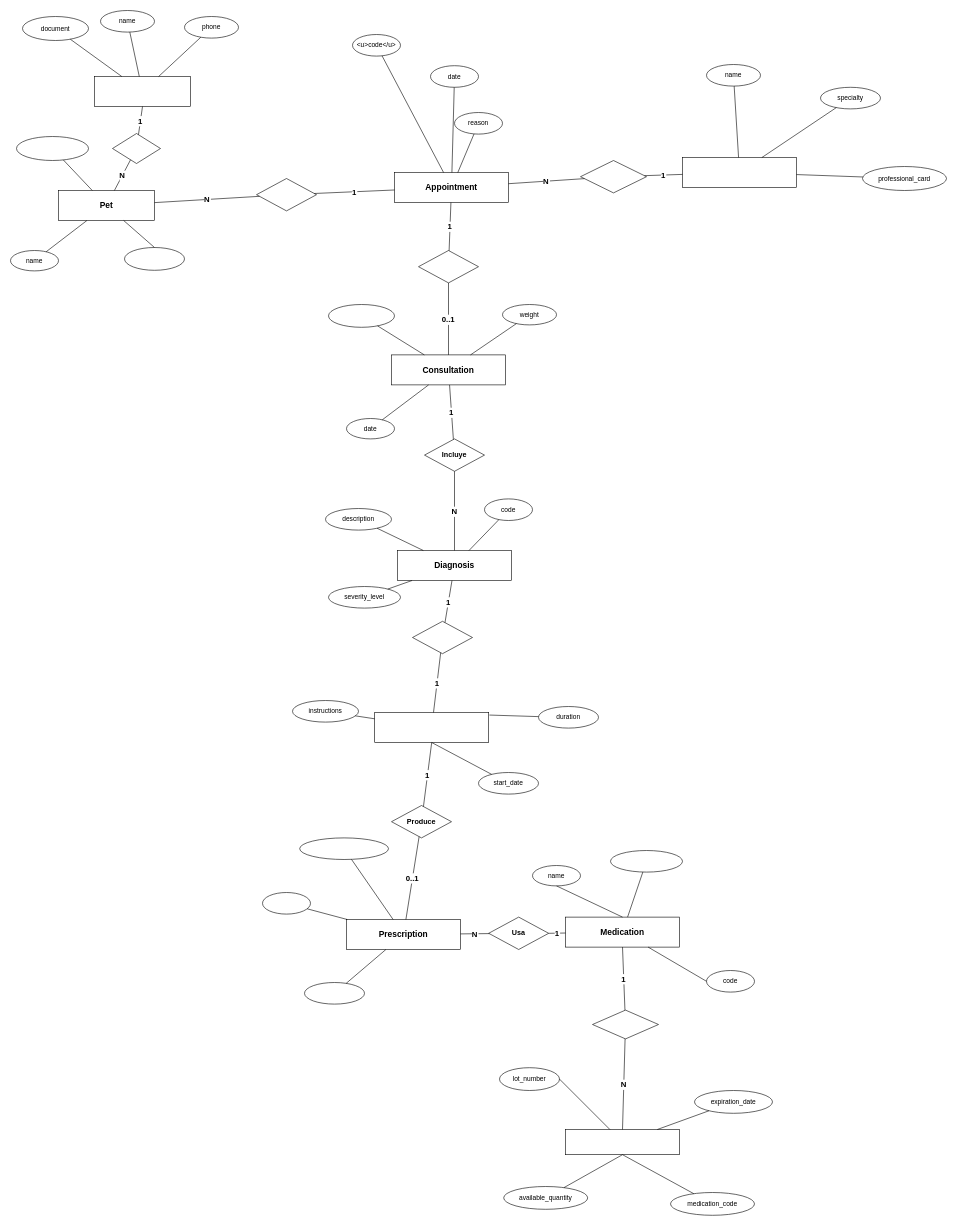
This 957x1226 diagram has some shape labels left out. The shapes that lost their labels are listed below. From the top down, each one's box as (x1, y1, x2, y2) in pixels, then its label:
(94, 76, 190, 106): Owner
(16, 136, 88, 160): clinical_code
(112, 133, 160, 164): Tiene
(580, 160, 646, 193): Asignado a
(682, 157, 796, 188): Veterinarian
(256, 178, 316, 211): Agenda
(124, 247, 184, 270): birth_date
(418, 250, 478, 283): Genera
(328, 304, 394, 327): sequential
(412, 621, 472, 654): Origina
(374, 712, 489, 742): Treatment
(299, 837, 388, 860): administration_route
(610, 850, 682, 872): concentration
(262, 892, 310, 914): dose
(304, 982, 364, 1004): frequency
(592, 1010, 658, 1039): Tiene lotes
(565, 1129, 680, 1155): Lot
